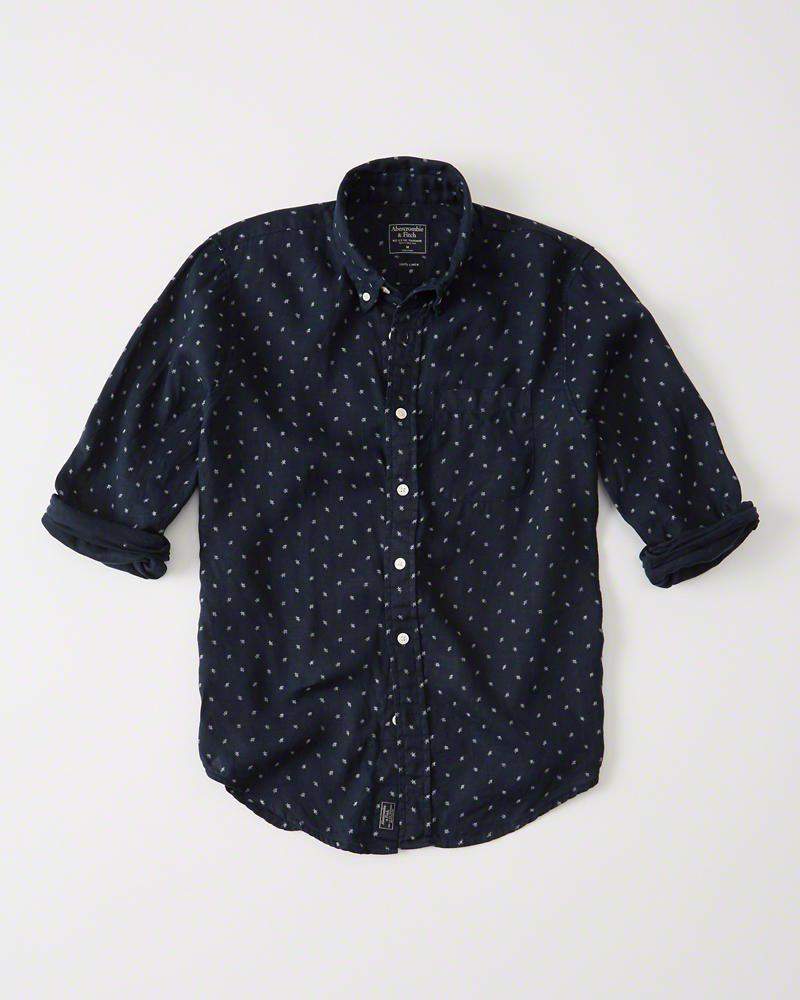teeshirt: (38, 134, 764, 868)
